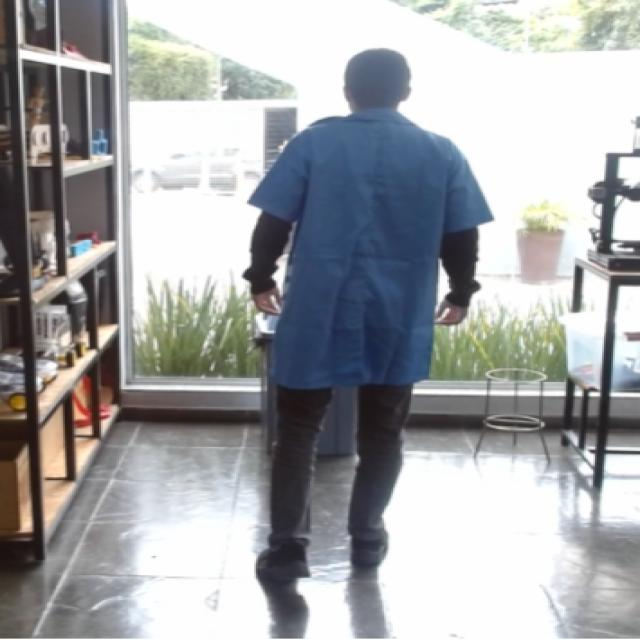BOTA: (253, 547, 316, 583), (351, 518, 393, 563)
JALECO: (237, 107, 501, 391)
SEM LUVA: (247, 279, 285, 320), (429, 294, 467, 331)
